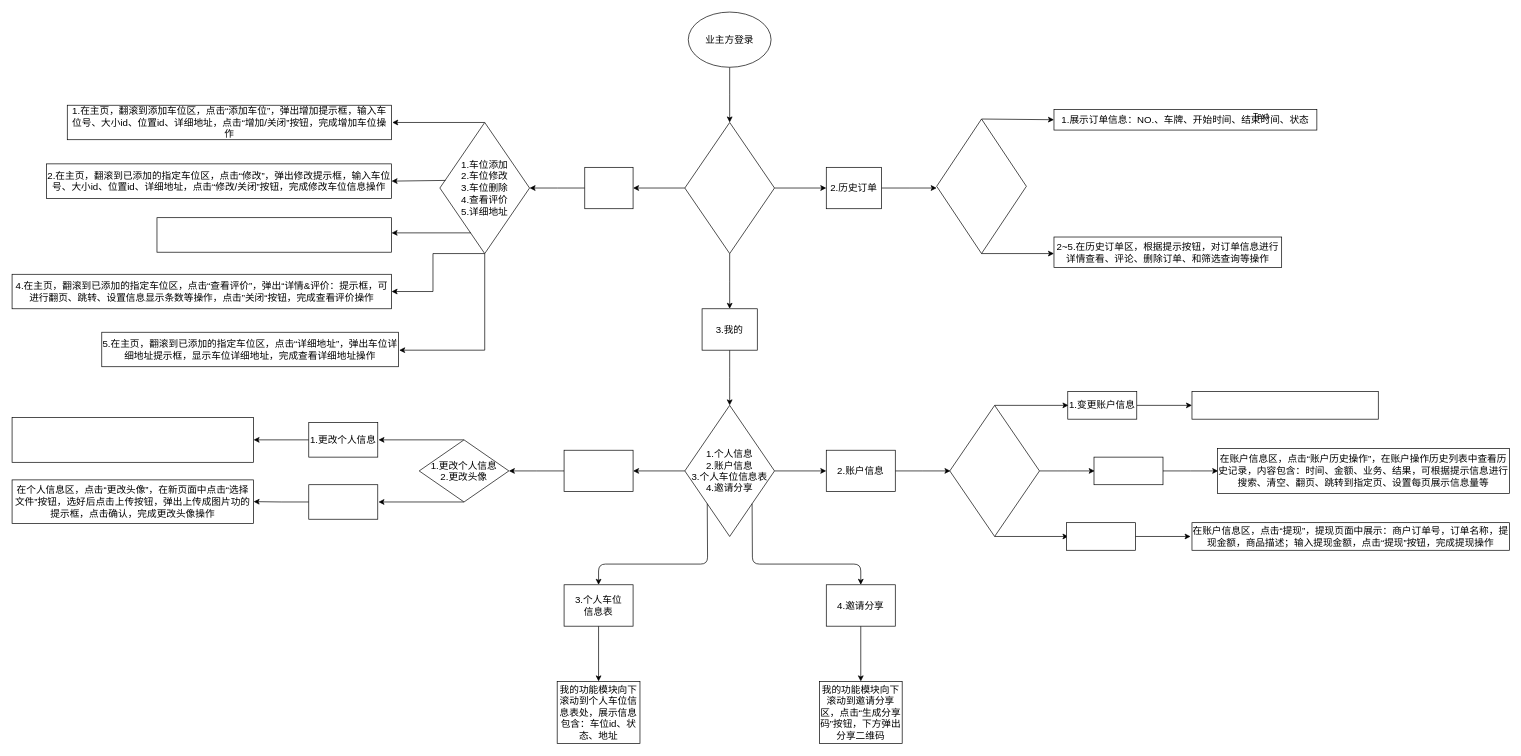
This 1521x756 diagram has some shape labels left out. Here are the shapes that lost their labels. From the top down, the centre of each, then its label:
the point at 608,188: 1.主页
the point at 729,188: 1.主页 2.历史订单 3.我的
the point at 981,186: 1.订单展示 2.详情 3.评论 4.删除 5.查询
the point at 274,234: 3.在主页，翻滚到已添加的指定车位区，点击“删除”，弹出删除成功的提示框，完成删除车位信息操作
the point at 1284,405: 在账户信息区，点击“变更账户信息”，修改绑定阿里账户，点击“关闭/提交更改”按钮
the point at 132,439: 在个人信息区，点击“更改个人信息”，在弹出框中输入用户姓名、用户电话、用户昵称，用户性别，点击“关闭/提交更改”按钮，完成更改个人信息操作
the point at 598,471: 1.个人信息
the point at 994,470: 1.变更账户信息 2.账户历史操作 3.提现
the point at 1128,470: 2.账户历史操作
the point at 343,501: 2.更改头像
the point at 1100,536: 3.提现
